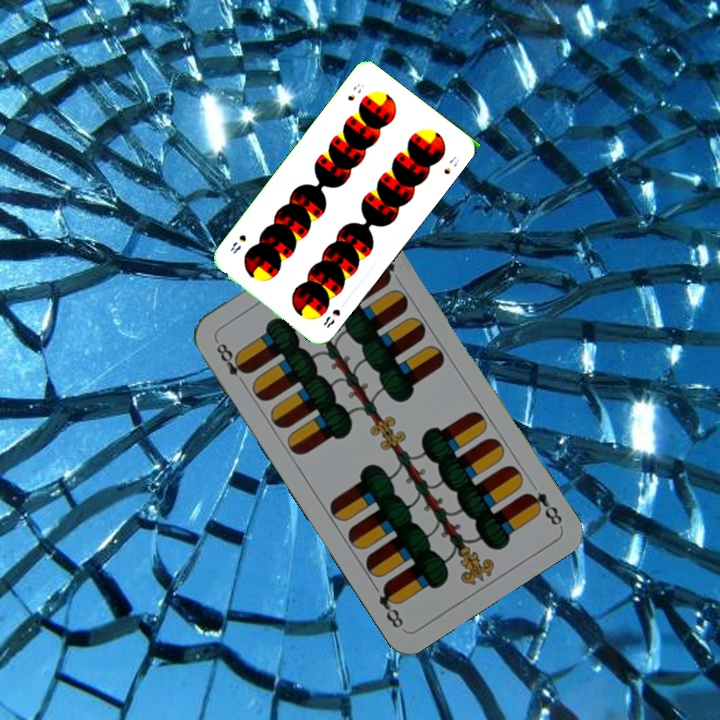E8: (211, 336, 252, 389), (521, 488, 565, 529)
S8: (319, 305, 343, 330), (343, 79, 366, 104)
